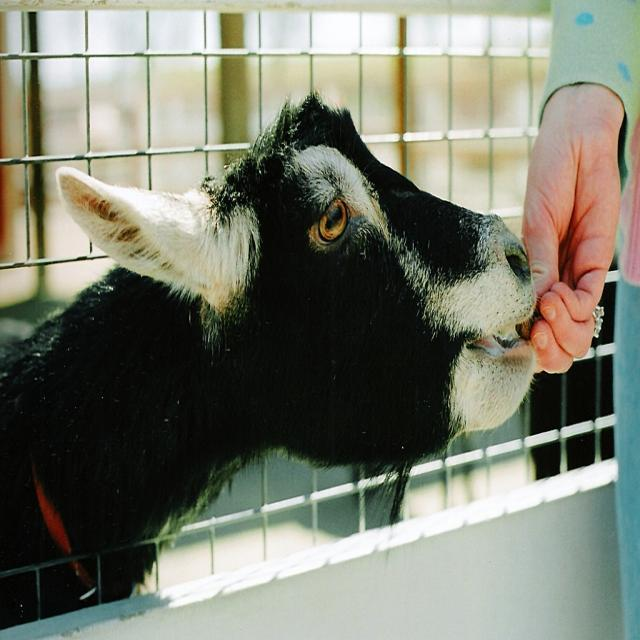Goat: (1, 88, 545, 609)
